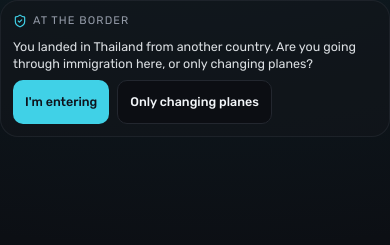
Test case: EntryReadiness card › answers honestly when the passport country is not known
Click the button "I'm entering".
click(61, 102)  # box x1=13 y1=80 x2=109 y2=124
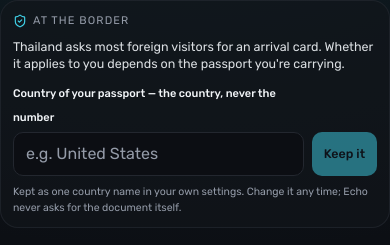
Result: the field labelled "Country of your passport — the country, never the number" is shown at x1=13 y1=132 x2=304 y2=176
